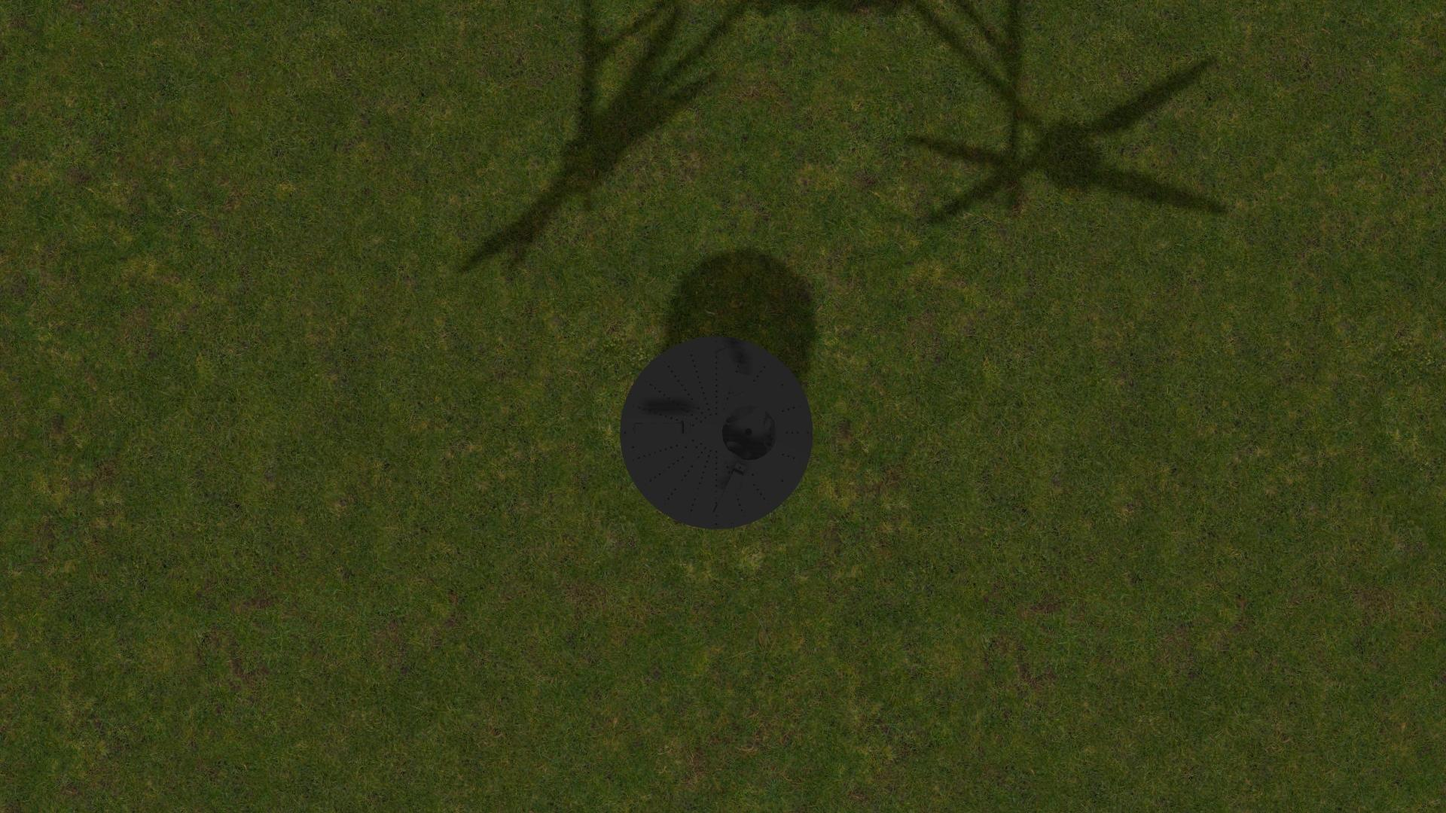alca: (711, 462, 746, 520), (713, 344, 747, 401), (630, 422, 691, 436)
armadilha: (619, 336, 813, 530)
